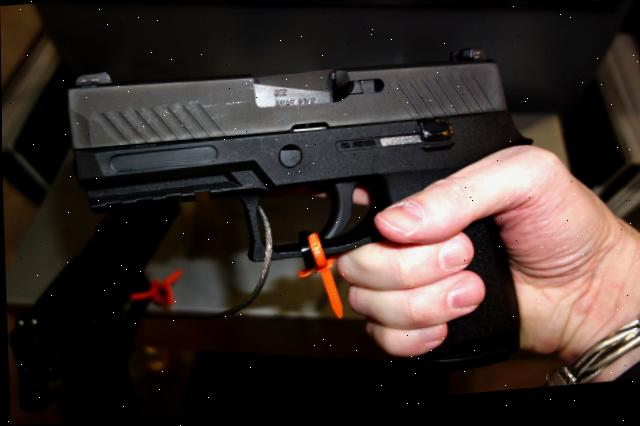pistol: (62, 39, 540, 403)
